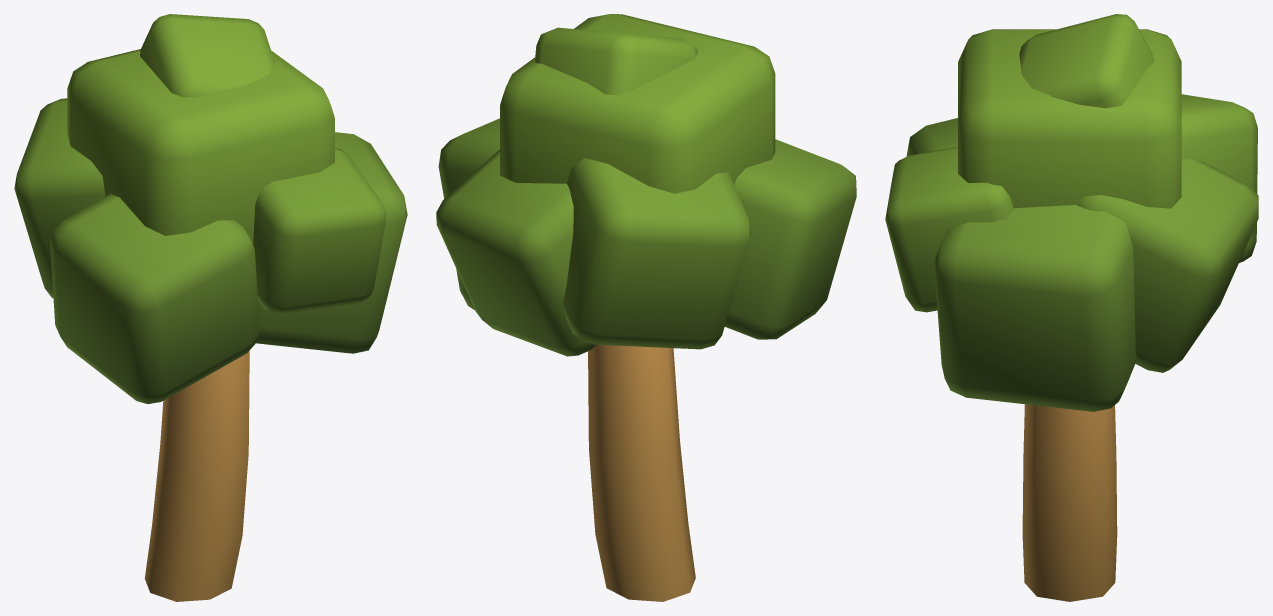
File: Tree+1.fbx
3 views of the same model, side by side, from view 1: azimuth 30°, elevation 25°; view 2: azimuth 150°, elevation 25°; view 3: azimuth 270°, elevation 25° (orthographic). The views are drawn at different scales.
Visible parts, largest first — view 1: Tree 1; view 2: Tree 1; view 3: Tree 1.
Boxes of the visible parts, x1=… form: Tree 1: x1=14, y1=14, x2=407, y2=601; Tree 1: x1=436, y1=14, x2=856, y2=601; Tree 1: x1=885, y1=14, x2=1258, y2=601.
Bounding box in the file's own units: 215 × 330 × 197.
